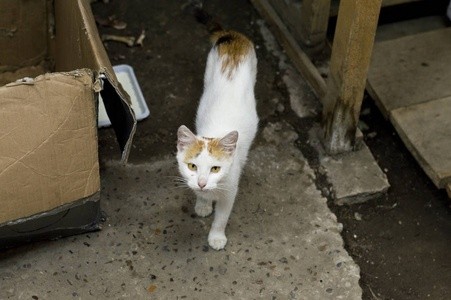cat: (175, 31, 260, 251)
